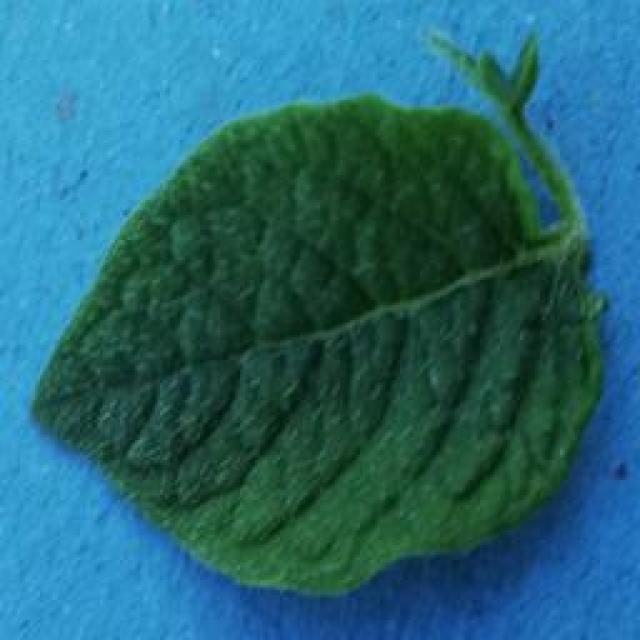Potato_Healthy: (29, 22, 604, 586)
